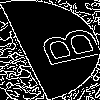B: (24, 25, 100, 71)
